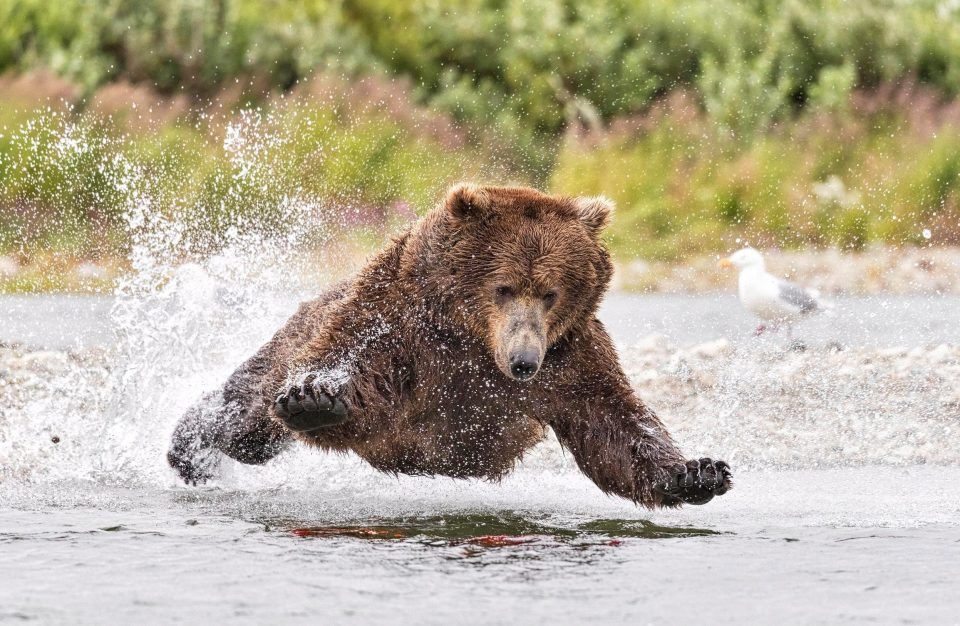bear: (438, 179, 620, 384)
